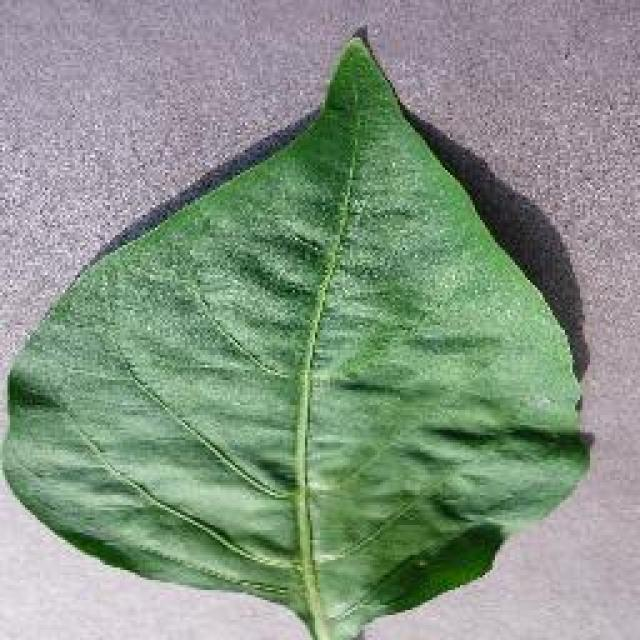Chilli_Healthy: (0, 22, 592, 637)
